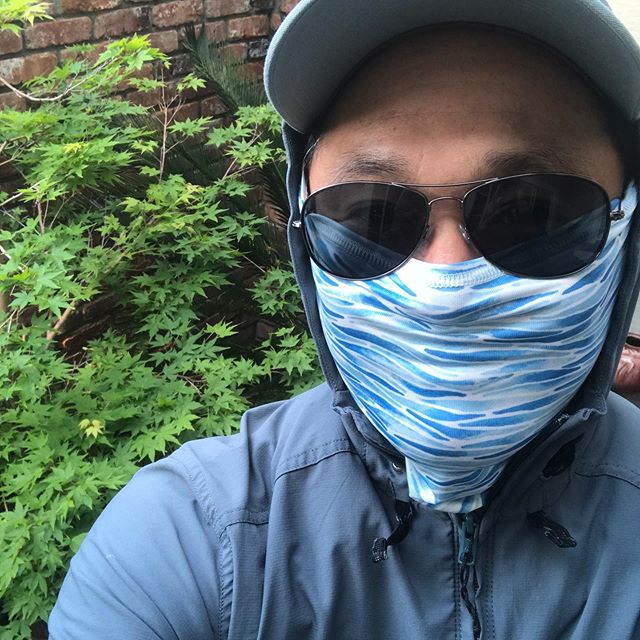homemade: (305, 219, 640, 503)
